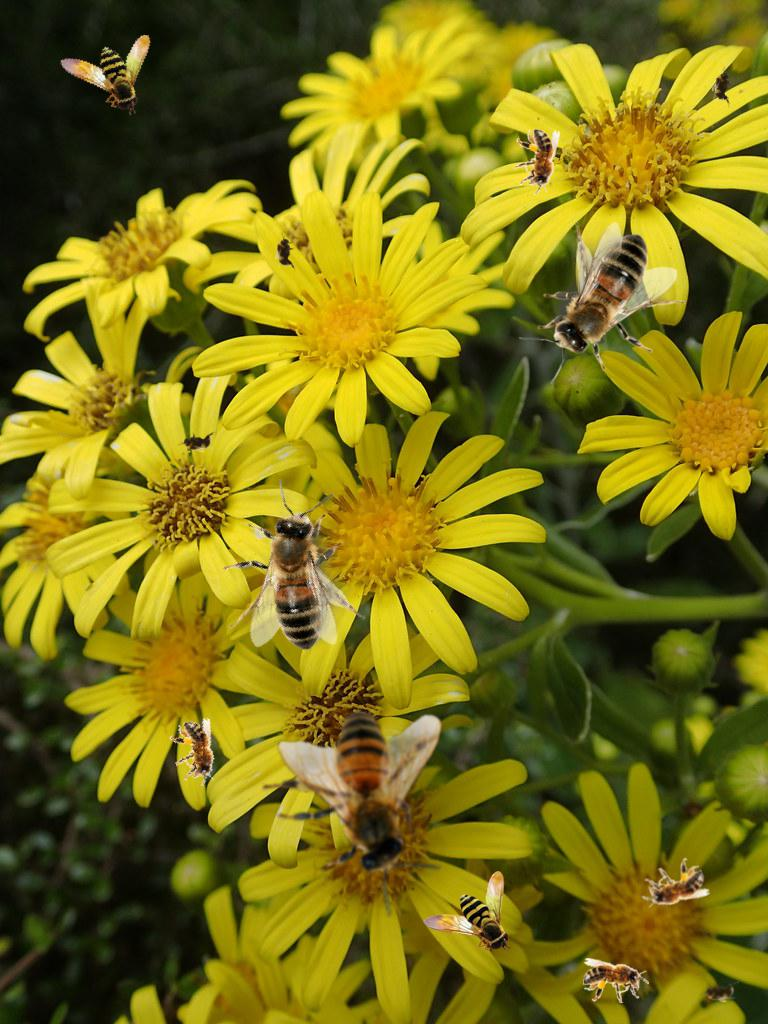Bee: (233, 663, 496, 929), (176, 458, 409, 690), (519, 222, 686, 384), (50, 12, 160, 118), (423, 871, 511, 953), (633, 852, 713, 921), (165, 715, 227, 792), (583, 958, 649, 1003), (515, 129, 560, 195), (708, 64, 738, 108), (177, 431, 217, 453), (274, 232, 296, 272), (699, 981, 739, 1003)
